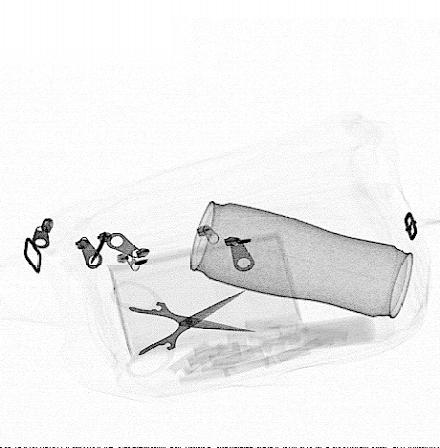Scissors: (110, 280, 256, 378)
